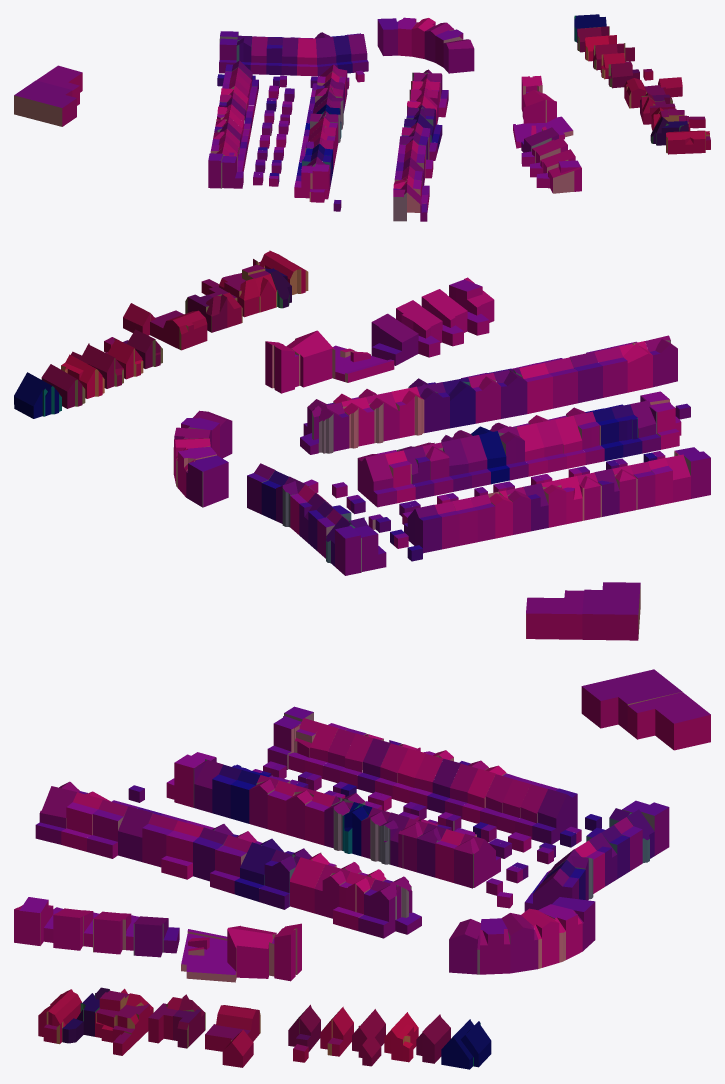
File: buildings_12_5.glb
3 views of the same model, one above another, from view 1: azimuth 30°, elevation 25°; view 2: azimuth 150°, elevation 25°; view 3: azimuth 270°, elevation 25° (orthographic). The views are drawn at different scales.
Parts seen in each view (by area): view 1: buildings_12_5; view 2: buildings_12_5; view 3: buildings_12_5.
Part boxes in pixels (box(x1,y1,x2,y2)): buildings_12_5: box(14, 14, 710, 221); buildings_12_5: box(14, 250, 710, 640); buildings_12_5: box(14, 669, 710, 1069).
Bounding box in the file's own units: 212 × 12.43 × 168.
